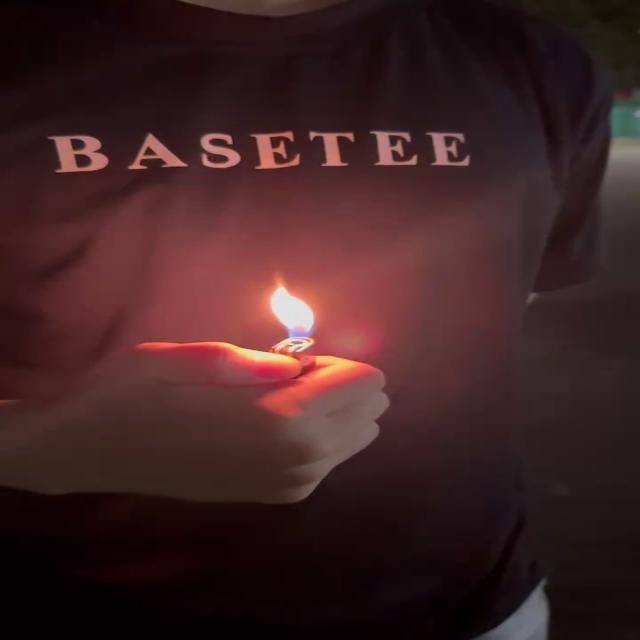Fire: (271, 287, 322, 347)
